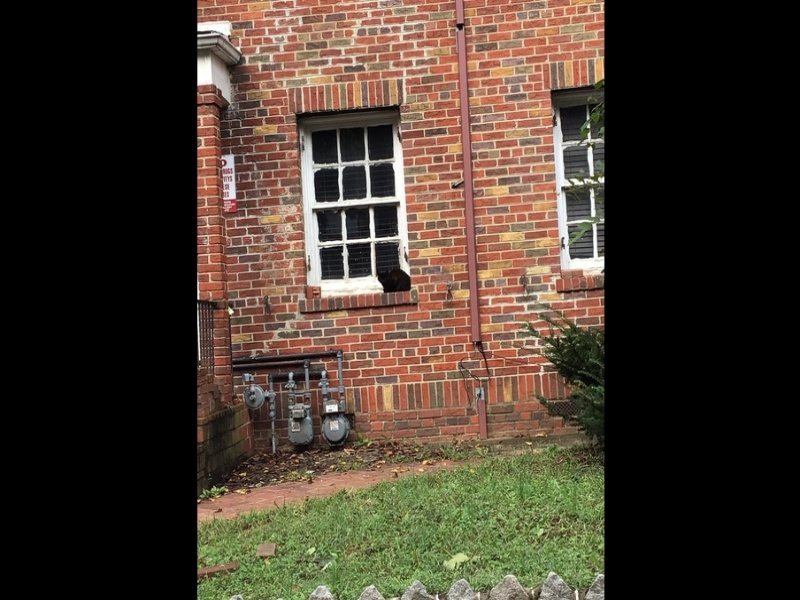cat: (374, 266, 414, 294)
